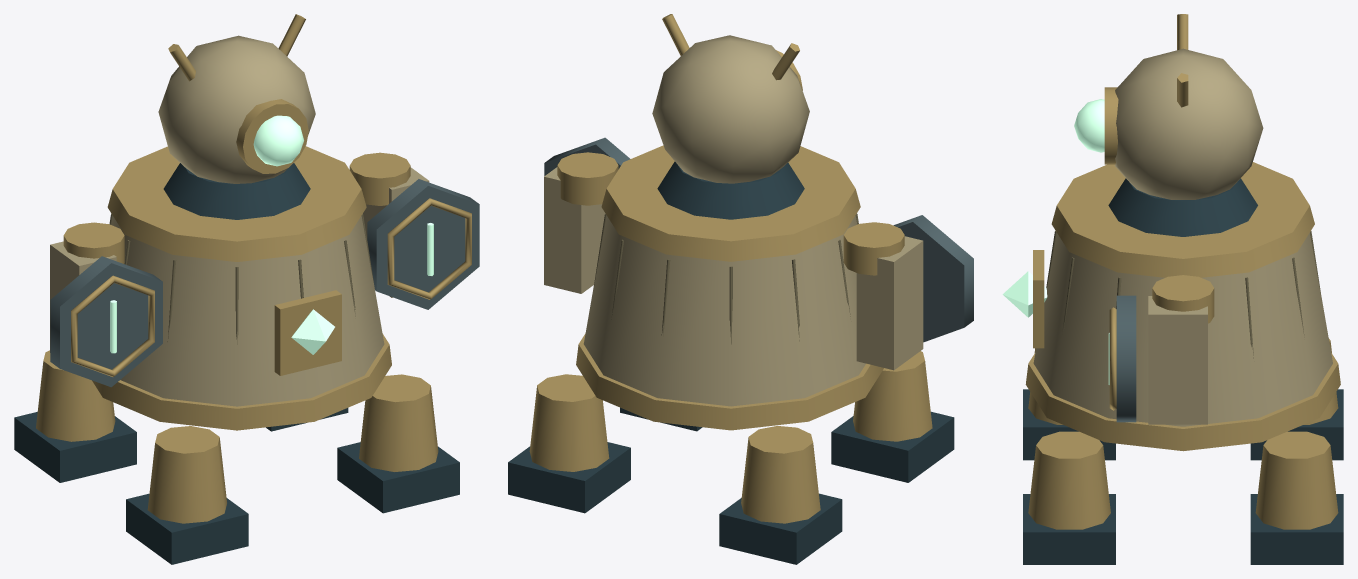
The model's file is sentinel.glb.
3 views of the same model, side by side, from view 1: azimuth 30°, elevation 25°; view 2: azimuth 150°, elevation 25°; view 3: azimuth 270°, elevation 25° (orthographic).
Parts seen in each view (by area): view 1: bronze_inlay, training_wood, recess, boss_armour, ward, training_wood_dark; view 2: training_wood, bronze_inlay, recess, boss_armour, training_wood_dark; view 3: training_wood, bronze_inlay, recess, boss_armour, ward, training_wood_dark.
Boxes of the visible parts, box(x1,y1,x2,y2) form: bronze_inlay: box(36, 14, 471, 523); training_wood: box(50, 35, 429, 406); recess: box(14, 163, 459, 564); boss_armour: box(50, 179, 479, 387); ward: box(110, 115, 433, 354); training_wood_dark: box(109, 213, 374, 344); training_wood: box(544, 35, 923, 406); bronze_inlay: box(529, 14, 932, 523); recess: box(508, 161, 954, 564); boss_armour: box(544, 137, 973, 342); training_wood_dark: box(594, 213, 858, 344); training_wood: box(1033, 48, 1332, 426); bronze_inlay: box(1025, 14, 1340, 529); recess: box(1023, 178, 1343, 564); boss_armour: box(1116, 295, 1136, 422); ward: box(1002, 99, 1109, 384); training_wood_dark: box(1046, 231, 1322, 358).
Size of the model in its own units: 1.91 by 1.92 by 1.32.
